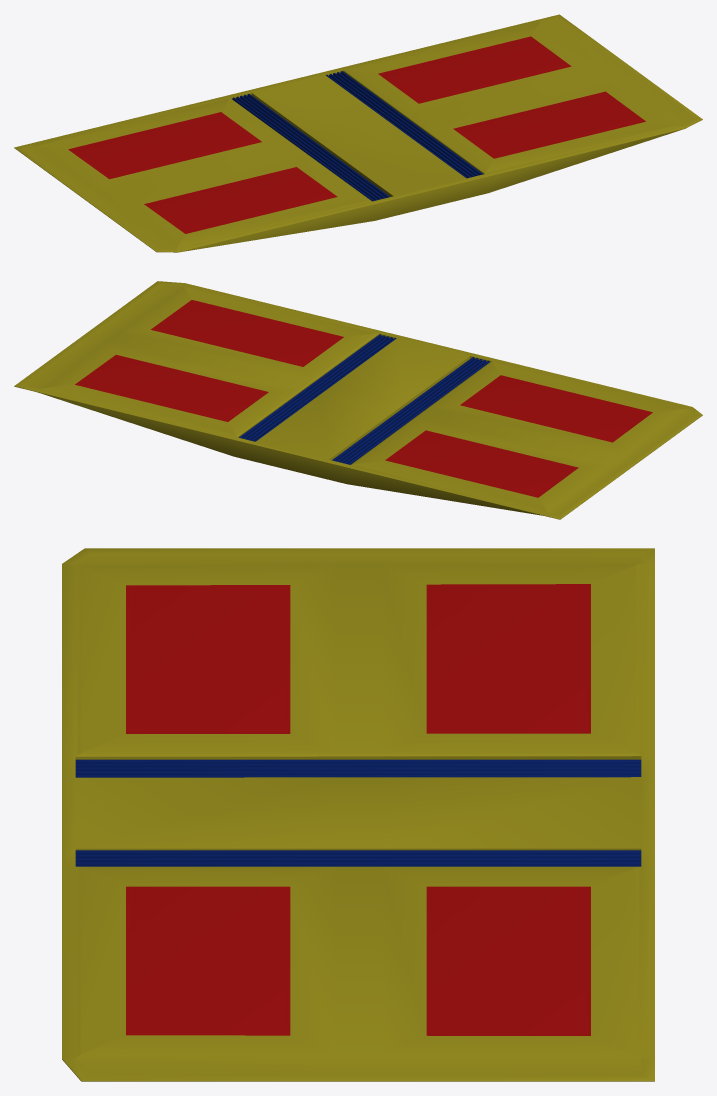
The model's file is test 2nd floor small room.FBX.
3 views of the same model, one above another, from view 1: azimuth 30°, elevation 25°; view 2: azimuth 150°, elevation 25°; view 3: azimuth 270°, elevation 25° (orthographic). The views are drawn at different scales.
Parts seen in each view (by area): view 1: floor 2nd small room; view 2: floor 2nd small room; view 3: floor 2nd small room.
Part boxes in pixels (x1,y1,x2,y2): floor 2nd small room: (14,14,702,252); floor 2nd small room: (14,281,702,519); floor 2nd small room: (62,548,654,1081).
Size of the model in its own units: 9174 by 282 by 4317.
